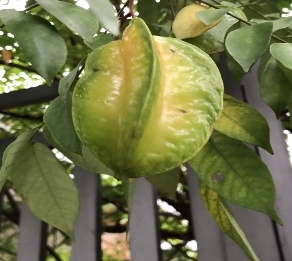Khe: (72, 17, 223, 177)
